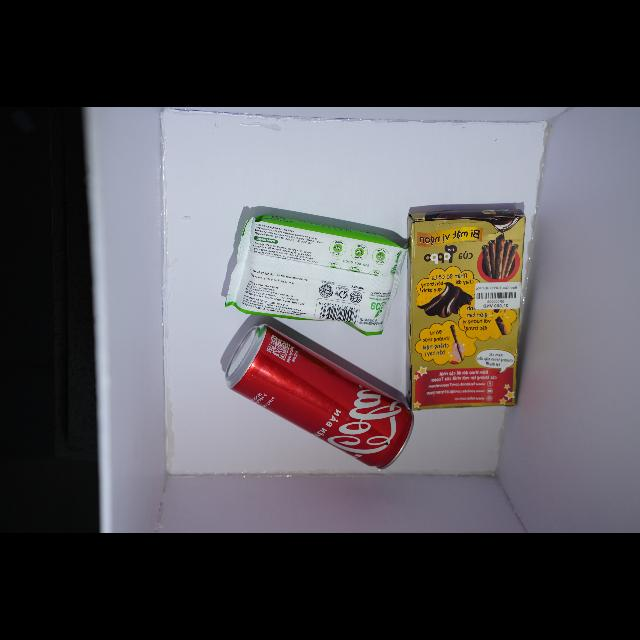banh_toppo_socola: (409, 210, 527, 410)
coca_cola: (226, 324, 414, 468)
khan_giay: (226, 215, 407, 335)
